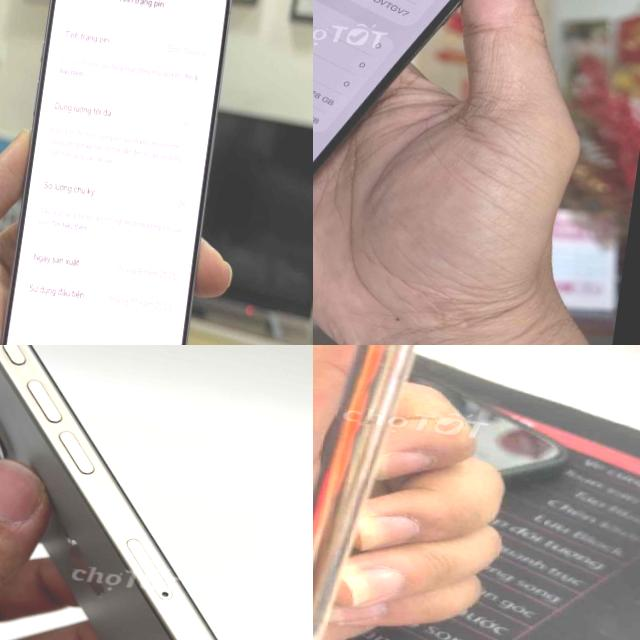gen_14: (313, 0, 568, 251)
gen_15: (0, 345, 313, 640)
gen_17: (0, 0, 243, 345)
gen_x_xs: (313, 345, 420, 640)
